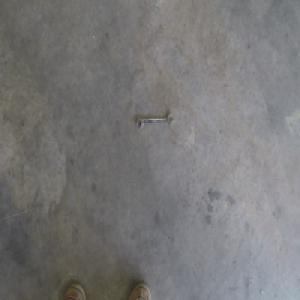Wrench: (136, 112, 173, 129)
